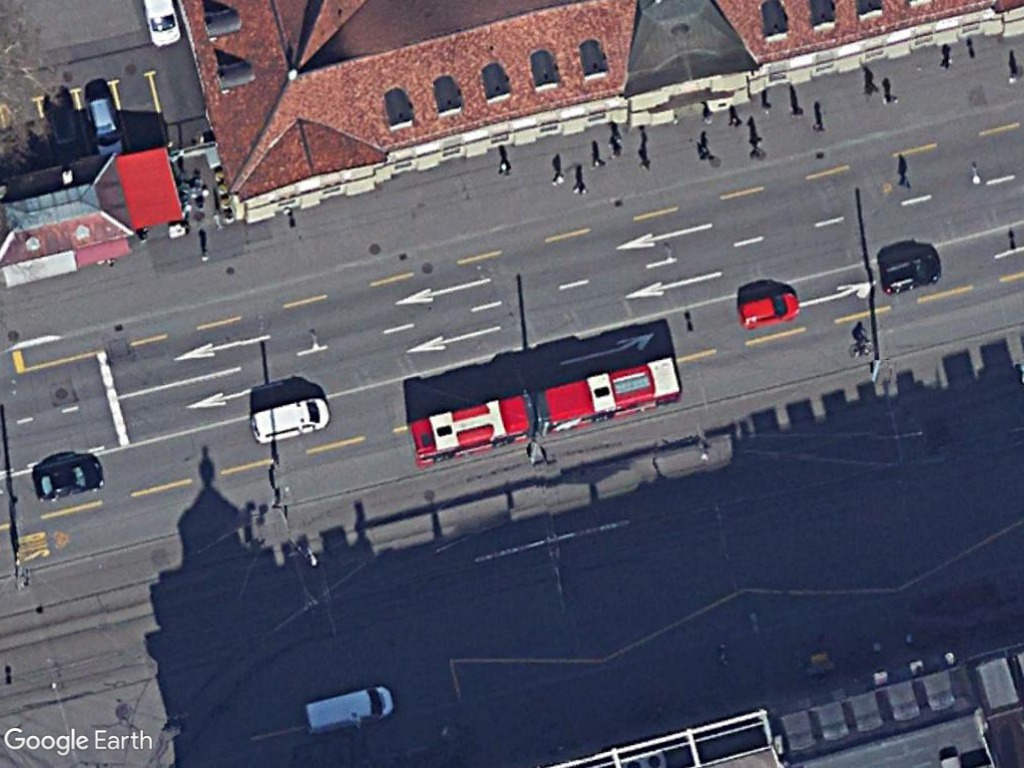bus: (541, 352, 683, 436), (408, 392, 535, 471)
car: (32, 457, 107, 504)
van: (302, 685, 397, 736), (247, 395, 333, 447), (738, 290, 802, 333)
